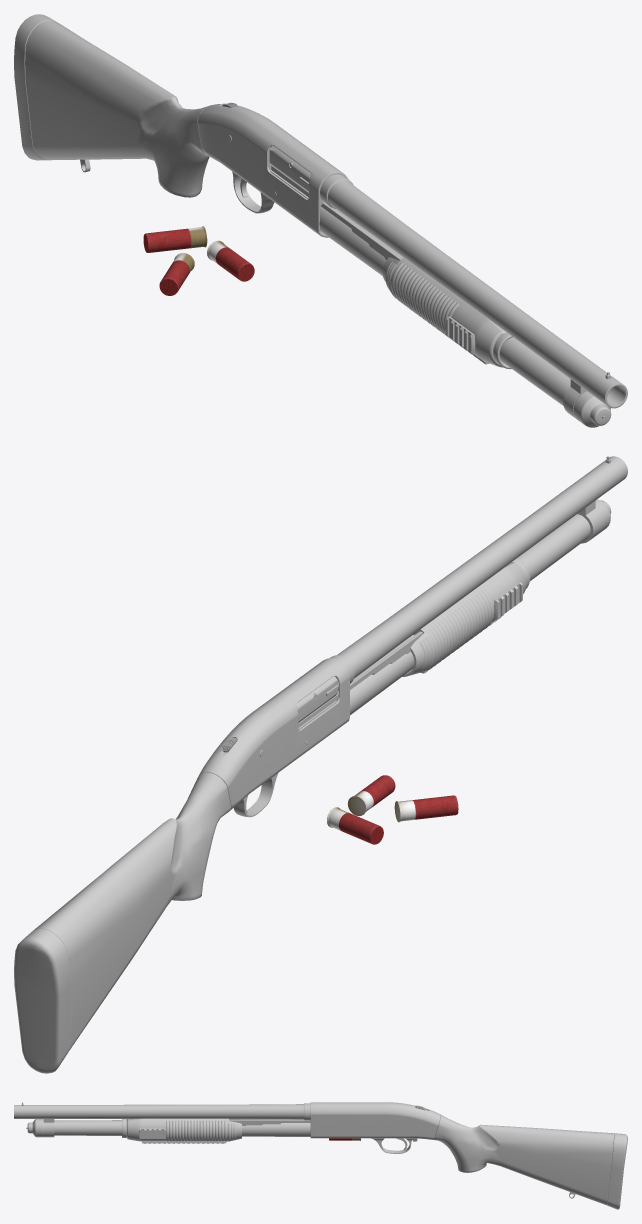
File: Shotgun 1.fbx
3 renders of one model, top to bottom at view 1: azimuth 30°, elevation 25°; view 2: azimuth 150°, elevation 25°; view 3: azimuth 270°, elevation 25°, orthographic. The views are drawn at different scales.
Visible parts, largest first — view 1: stockX750, barrelX750, receiverX750, magazineX750, grip1X750, front_grip_1X750, stock_back_partX750, bullet2X750, bulletX750, magazine_capX750, magazine_side_plate_02X750, WPN_590_boltX750 (+2 smaller); view 2: stockX750, barrelX750, receiverX750, stock_back_partX750, magazineX750, front_grip_1X750, grip1X750, bullet1X750, bullet2X750, bulletX750, WPN_590_boltX750, magazine_side_plate_02X750; view 3: stockX750, receiverX750, barrelX750, magazineX750, grip1X750, front_grip_1X750, stock_back_partX750, magazine_side_plateX750, left_gripX750, magazine_capX750, bottom_gripX750.
Part boxes in pixels (x1,y1,x2,y2): stockX750: [25, 20, 209, 197]; barrelX750: [273, 146, 627, 408]; receiverX750: [198, 103, 348, 237]; magazineX750: [319, 206, 586, 419]; grip1X750: [382, 257, 506, 367]; front_grip_1X750: [391, 262, 459, 341]; stock_back_partX750: [14, 14, 57, 160]; bullet2X750: [143, 226, 207, 252]; bulletX750: [207, 240, 254, 281]; magazine_capX750: [573, 391, 611, 427]; magazine_side_plate_02X750: [271, 165, 402, 260]; WPN_590_boltX750: [269, 148, 310, 198]; stockX750: [33, 772, 230, 1050]; barrelX750: [297, 456, 627, 703]; receiverX750: [199, 658, 349, 817]; stock_back_partX750: [14, 928, 71, 1073]; magazineX750: [336, 500, 603, 715]; front_grip_1X750: [426, 589, 494, 668]; grip1X750: [402, 562, 526, 676]; bullet1X750: [394, 795, 458, 822]; bullet2X750: [327, 807, 383, 844]; bulletX750: [347, 775, 395, 815]; WPN_590_boltX750: [296, 676, 338, 729]; magazine_side_plate_02X750: [298, 631, 422, 727]; stockX750: [433, 1114, 614, 1205]; receiverX750: [310, 1102, 440, 1153]; barrelX750: [14, 1103, 310, 1120]; magazineX750: [43, 1118, 310, 1137]; grip1X750: [127, 1118, 241, 1141]; front_grip_1X750: [166, 1120, 226, 1141]; stock_back_partX750: [607, 1133, 627, 1209]; magazine_side_plateX750: [229, 1120, 310, 1125]; left_gripX750: [139, 1128, 166, 1138]; magazine_capX750: [26, 1119, 43, 1137]; bottom_gripX750: [142, 1141, 226, 1143].
Bounding box in the file's own units: 15.29 × 16.84 × 88.24.
